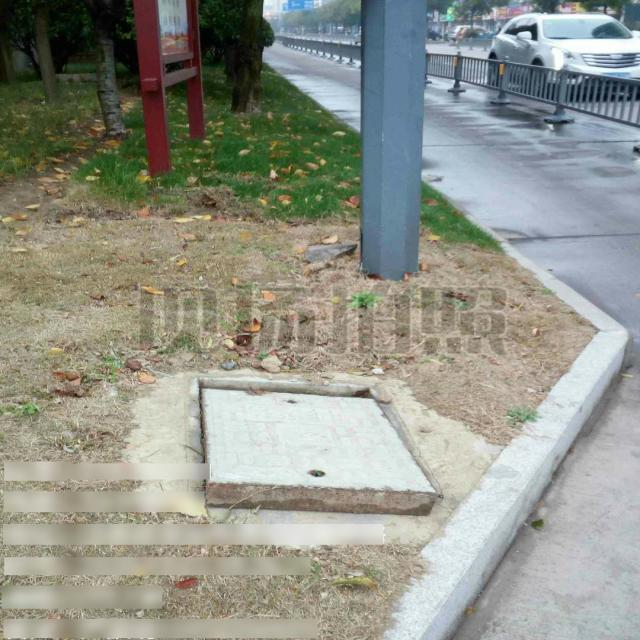Faulty: (190, 374, 440, 518)
